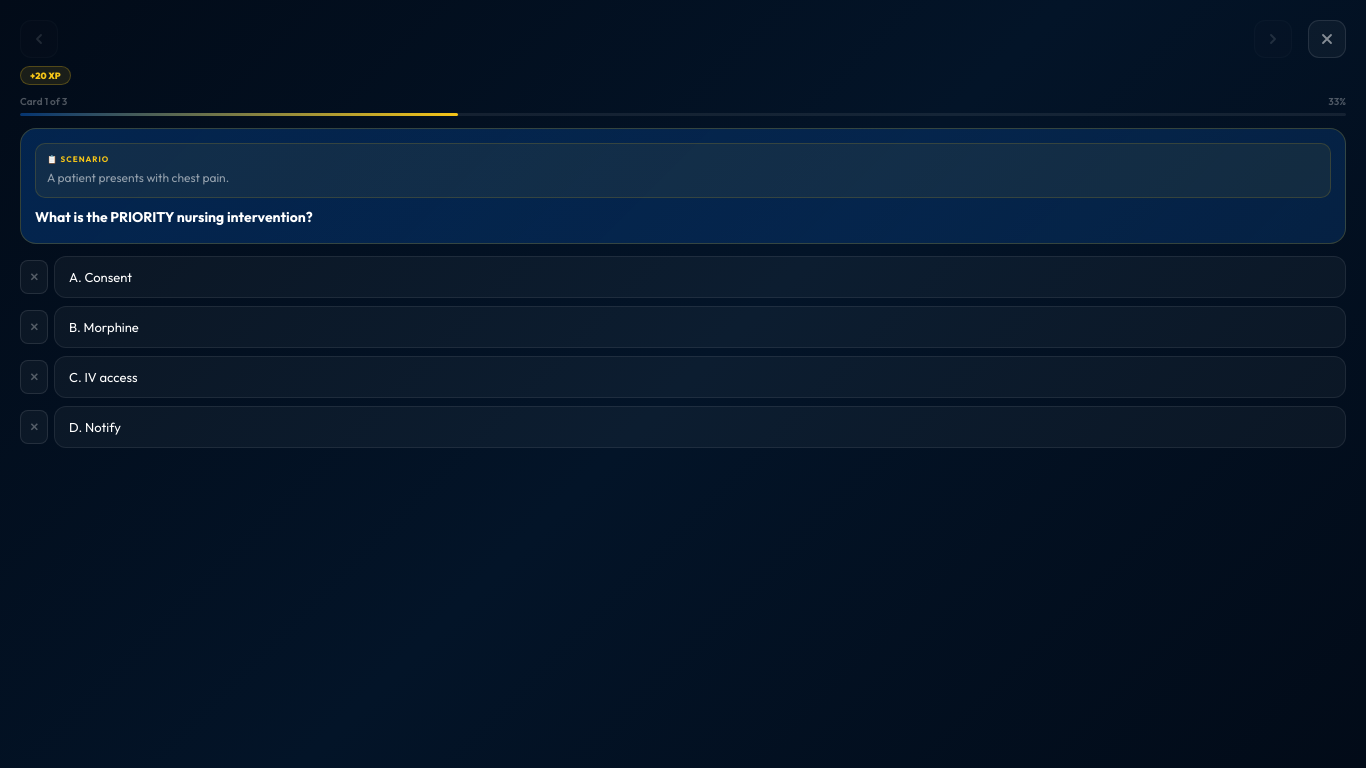
CardScreen › shows submit button after selecting an option
The image size is (1366, 768).
Click the button "A. Consent". click: click(101, 277)
box: [54, 256, 1346, 298]
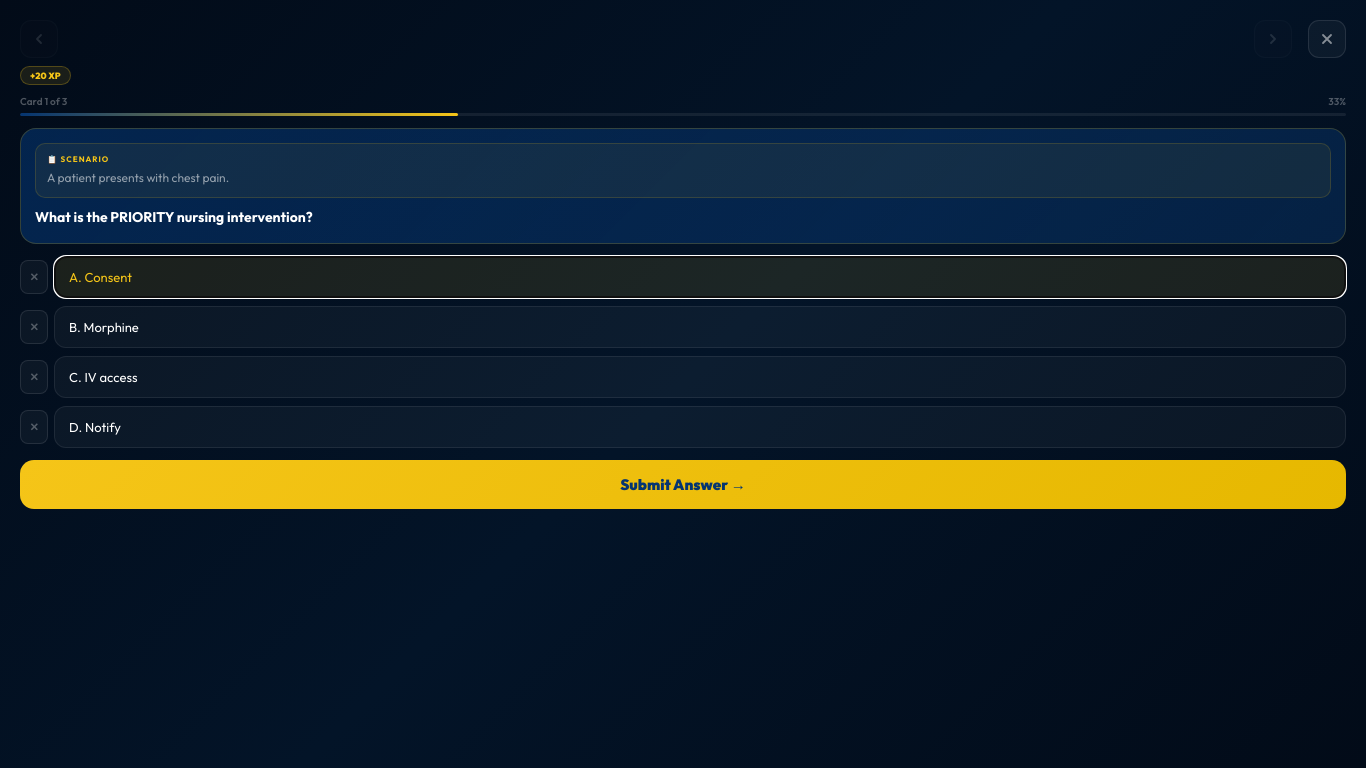
Check: the button "Submit Answer →" is shown, box [20, 460, 1346, 509]
